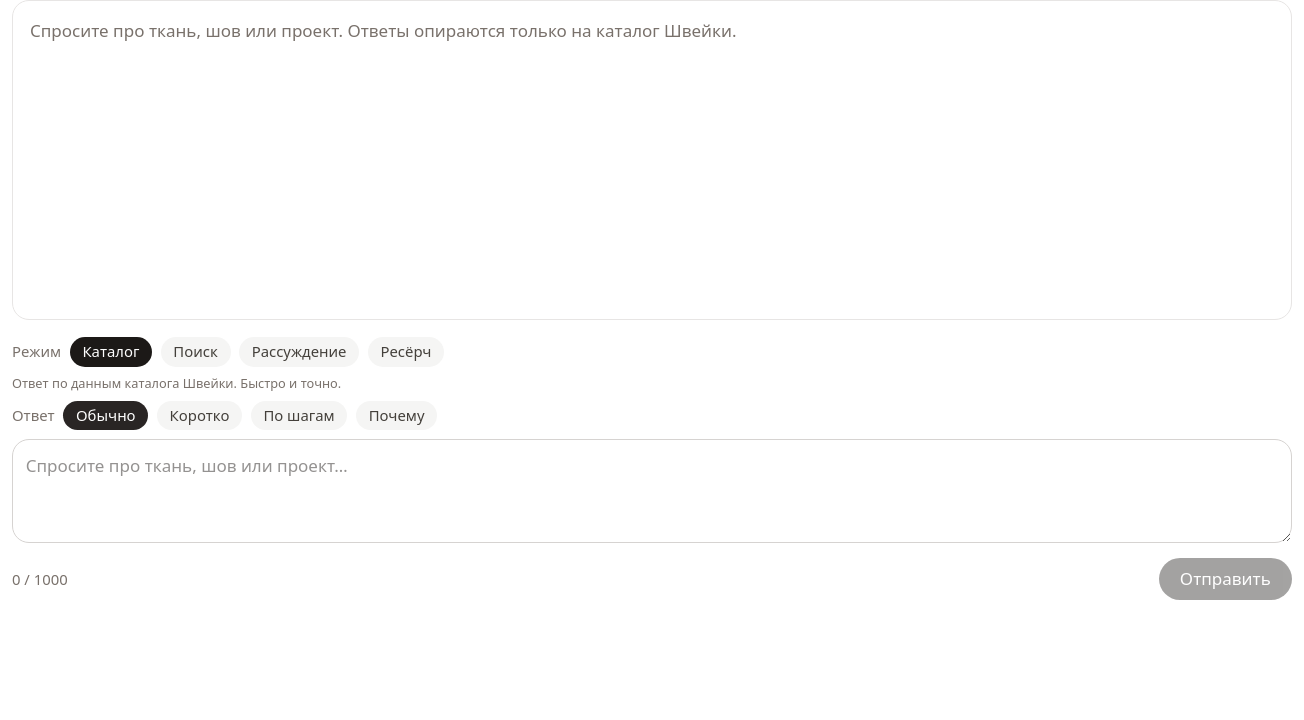
Test: ChatWidget › делает ссылкой только slug из заголовка X-Context-Slugs
Type "Что взять?" into the text box. click: (652, 491)
box: x1=12 y1=439 x2=1292 y2=543
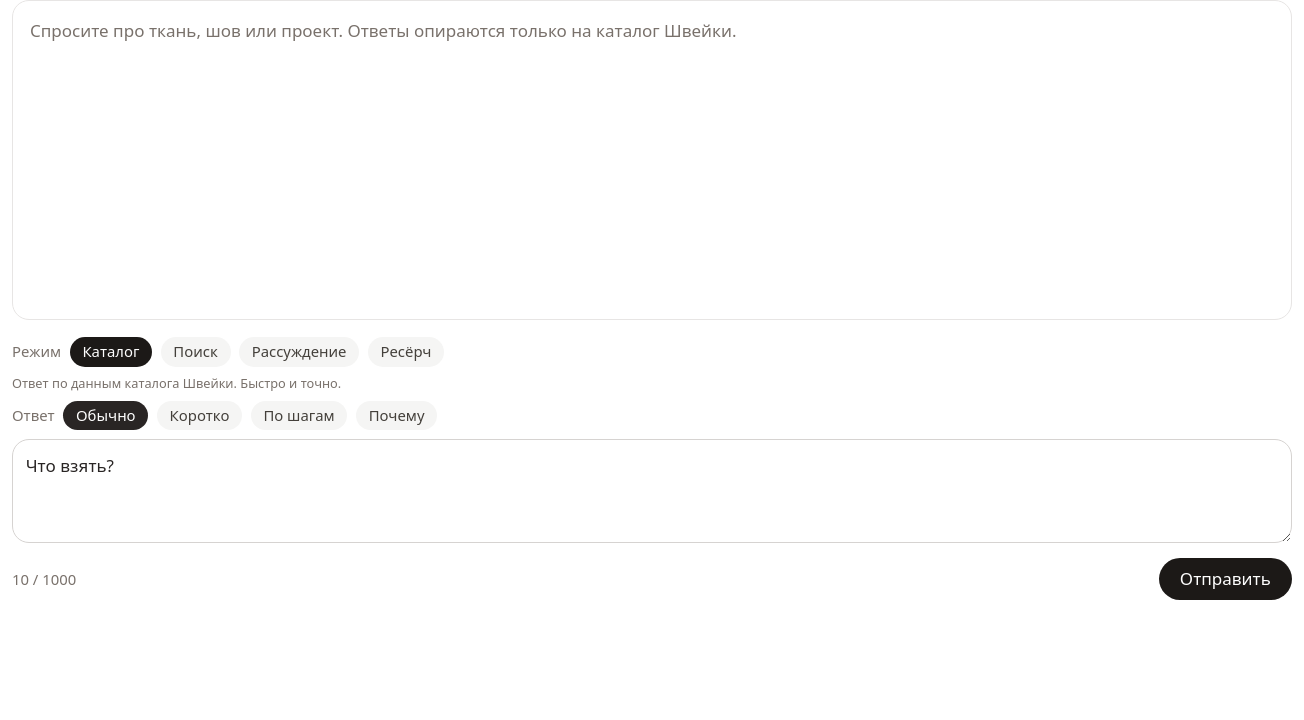
Click the button "Отправить". click: (1225, 579)
box: x1=1159 y1=558 x2=1292 y2=600
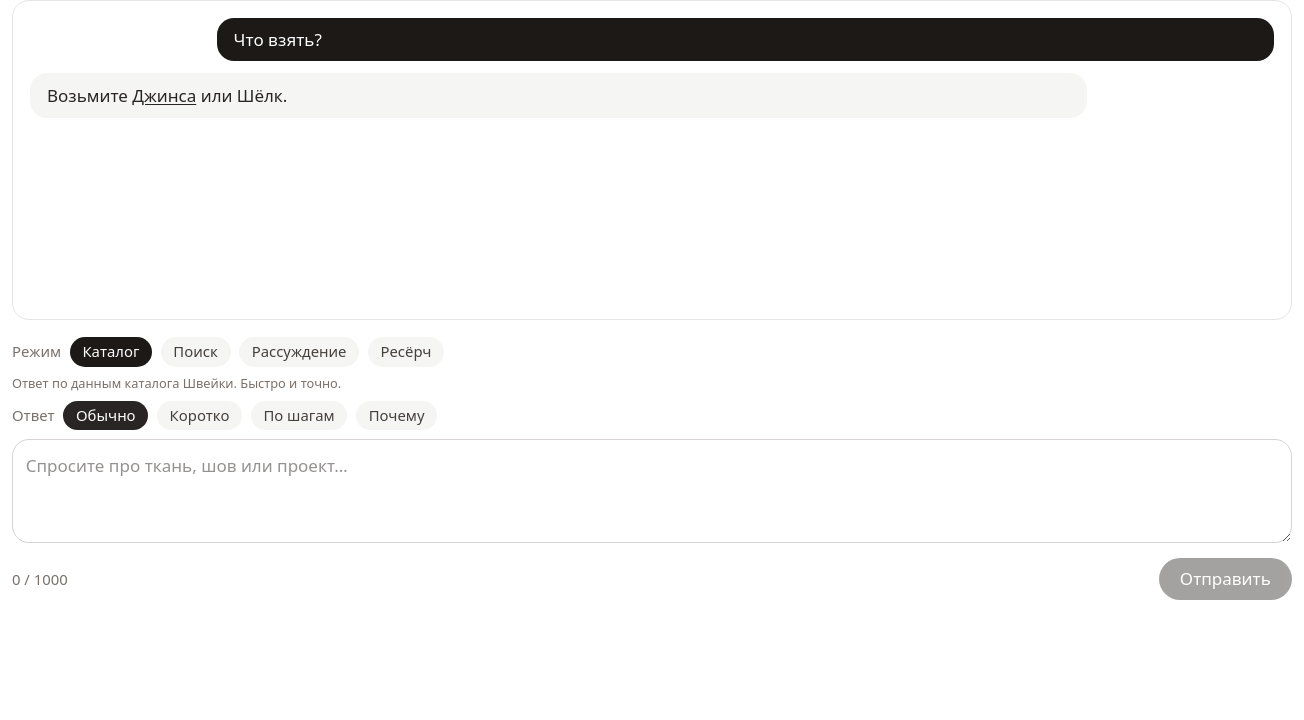
Expected: the link "Джинса" is shown, x1=132 y1=84 x2=196 y2=107
Expected: the text "Возьмите Джинса или Шёлк." is shown, x1=47 y1=84 x2=287 y2=107
